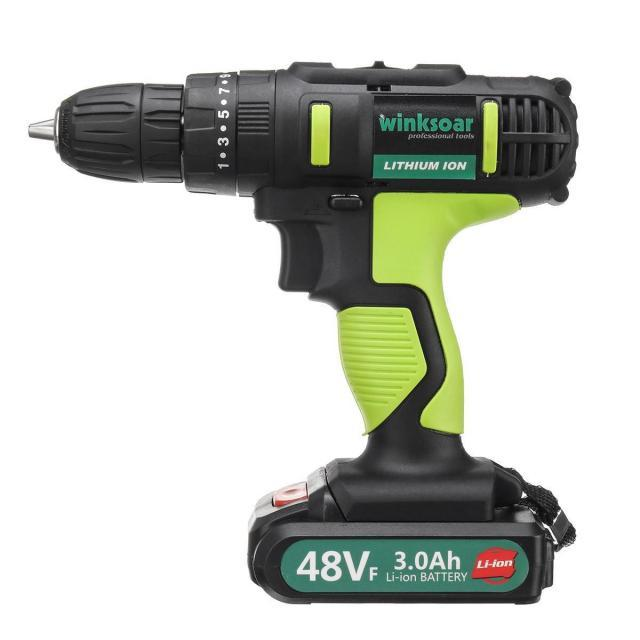drill: (28, 60, 579, 606)
